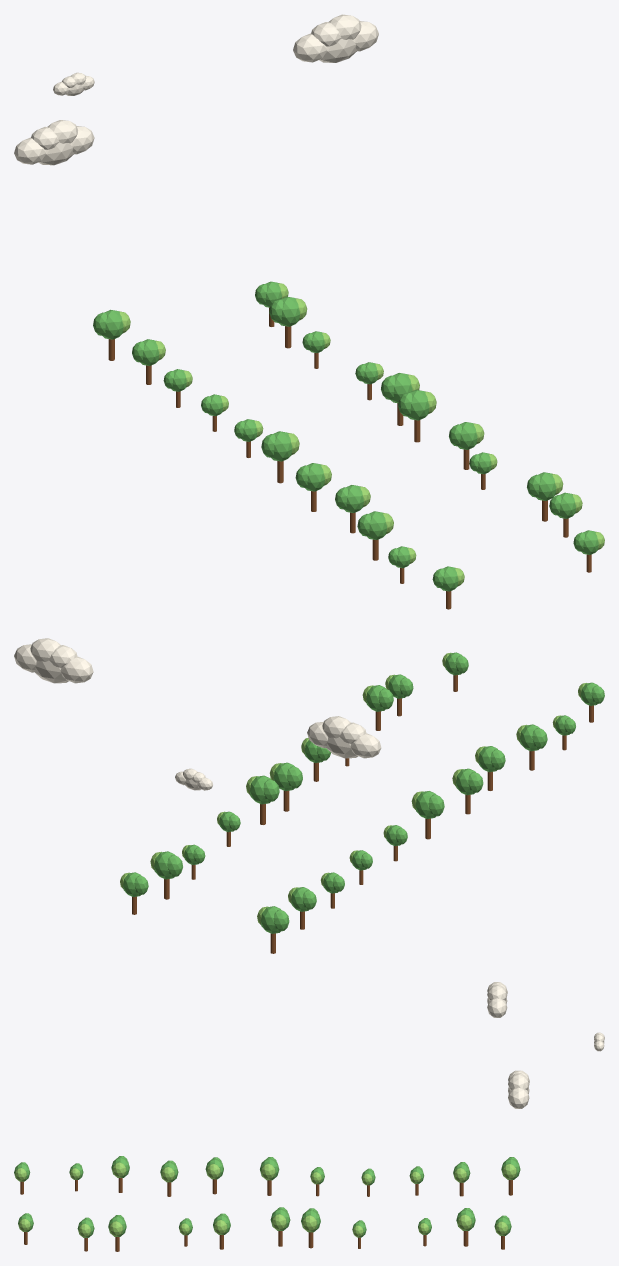
The model's file is Premium_05_Sky_Trees.fbx.
3 views of the same model, one above another, from view 1: azimuth 30°, elevation 25°; view 2: azimuth 150°, elevation 25°; view 3: azimuth 270°, elevation 25° (orthographic). The views are drawn at different scales.
Parts seen in each view (by area): view 1: no part large enough to name; view 2: CloudBank_Right_Puff2, CloudBank_Left_Puff2, CloudBank_Right_Puff0, CloudBank_Right_Puff3, CloudBank_Right_Puff1, CloudBank_Left_Puff0, CloudBank_Left_Puff3, CloudBank_Right_Puff4; view 3: CloudBank_Right_Puff1.
Part boxes in pixels (bbox=[...]): CloudBank_Right_Puff2: bbox=[60, 656, 93, 683]; CloudBank_Left_Puff2: bbox=[350, 733, 381, 758]; CloudBank_Right_Puff0: bbox=[34, 660, 68, 683]; CloudBank_Right_Puff3: bbox=[30, 638, 60, 661]; CloudBank_Right_Puff1: bbox=[14, 644, 36, 672]; CloudBank_Left_Puff0: bbox=[325, 737, 358, 758]; CloudBank_Left_Puff3: bbox=[322, 716, 350, 738]; CloudBank_Right_Puff4: bbox=[49, 645, 77, 667]; CloudBank_Right_Puff1: bbox=[508, 1087, 529, 1108].
Size of the model in its own units: 58.19 by 41.81 by 110.
